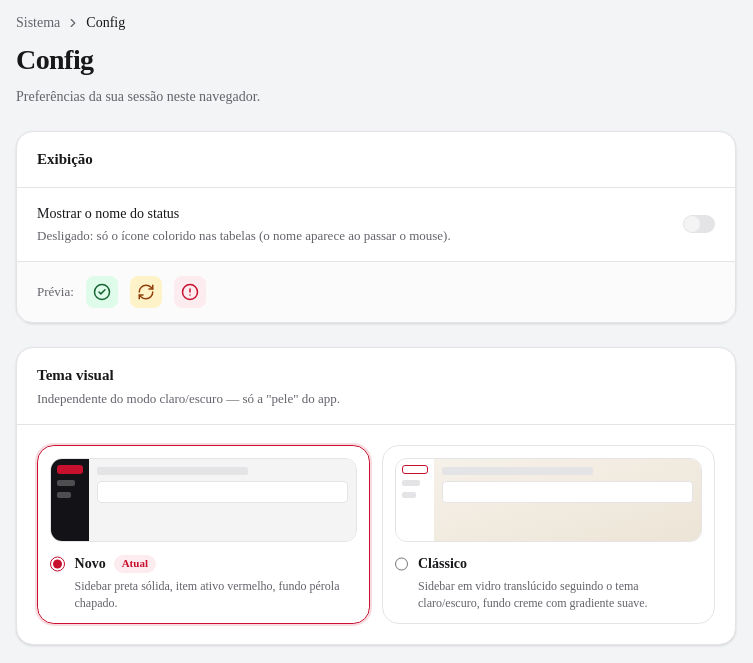
Scenario: ConfigPage › switch "Mostrar o nome do status" liga e grava a preferência
Click the switch named "Mostrar o nome do status": (699, 224) [683,215,715,233]
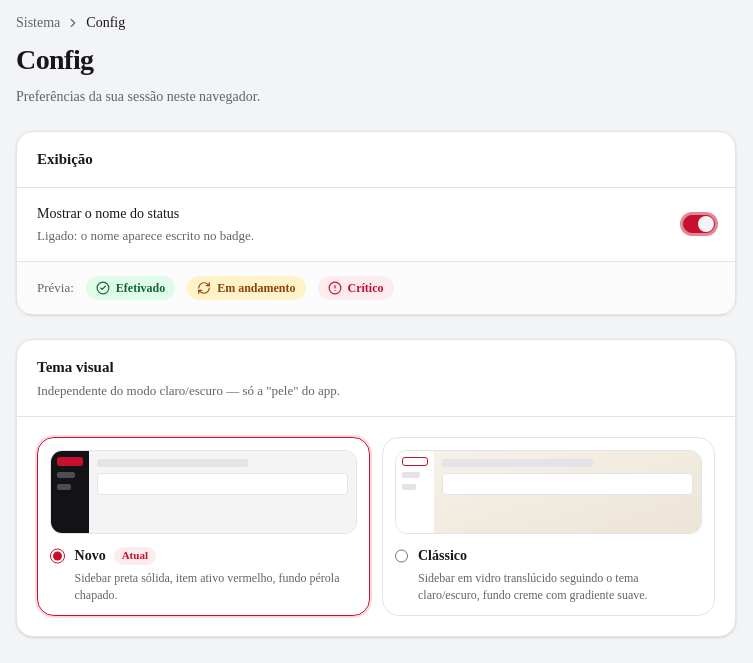
Expected: the switch named "Mostrar o nome do status" is checked, [683,215,715,233]
Expected: the text "Ligado: o nome aparece escrito no badge." is shown, [37,226,254,245]
